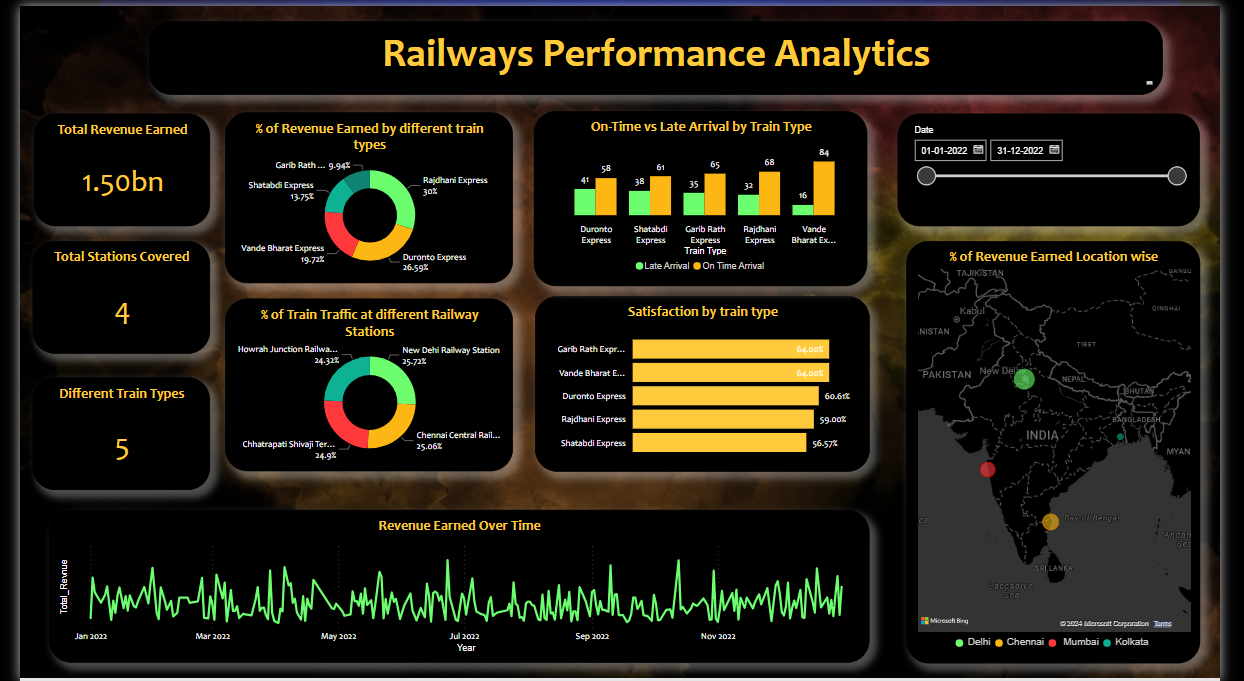

Layout of this report page (visuals, bound fields, positions):
{"tool":"powerbi","page":{"name":"Railways Performance Analytics","canvas":[1600,900],"ordinal":0},"visuals":[{"type":"textbox","title":"Railways Performance Analytics","box":[171.7,20,1351.7,98.3],"z":0},{"type":"lineChart","title":"Revenue Earned Over Time","fields":{"Y":["Measure Table.Total_Revnue"],"Category":["Date Lookup.Date.Variation.Date Hierarchy.Year","Date Lookup.Date.Variation.Date Hierarchy.Quarter","Date Lookup.Date.Variation.Date Hierarchy.Month","Date Lookup.Date.Variation.Date Hierarchy.Day"]},"box":[38,672,1094,204],"z":1000},{"type":"card","title":"Total Revenue Earned ","fields":{"Values":["Measure Table.Total_Revnue"]},"box":[17.5,142.5,235,150],"z":2000},{"type":"card","title":"Total Stations Covered ","fields":{"Values":["Count(station_lookup.Station Name)"]},"box":[16.6,313.6,236.7,150.8],"z":3000},{"type":"card","title":"Different Train Types","fields":{"Values":["Count(Train lookup.Train Type)"]},"box":[16.6,494.5,236.7,150.8],"z":4000},{"type":"donutChart","title":" % of Revenue Earned by different train types ","fields":{"Category":["Train lookup.Train Type"],"Y":["Measure Table.Total_Revnue"]},"box":[274,142,384,228],"z":5000},{"type":"donutChart","title":"% of Train Traffic at different Railway Stations","fields":{"Category":["station_lookup.Station Name"],"Y":["Measure Table.Total_Revnue"]},"box":[274,390,384,230],"z":6000},{"type":"clusteredBarChart","title":"Satisfaction by train type","fields":{"Category":["Train lookup.Train Type"],"Y":["Measure Table.Satisfaction by Train Type"]},"box":[686,386,446,234],"z":8000},{"type":"map","title":"% of Revenue Earned Location wise","fields":{"Size":["Measure Table.% wise Revenue Earned"],"Series":["station_lookup.Station Location"],"Category":["station_lookup.Station Location"]},"box":[1181.7,313.3,391.7,563.3],"z":9000},{"type":"slicer","title":"On-Time vs Late Arrival by Train Type","fields":{"Values":["Date Lookup.Date"]},"box":[1170,143.3,403.3,150],"z":10000},{"type":"clusteredColumnChart","title":"On-Time vs Late Arrival by Train Type","fields":{"Category":["Train lookup.Train Type"],"Y":["Measure Table.Late Arrival","Measure Table.On Time Arrival"]},"box":[685,140,445,233.3],"z":10001}]}

Visuals, with their boxes in screenshot pixels (x1, y1, x2, y2), scaled from the page's 1600x900 canvas onto the 1244x681 screenshot:
"Railways Performance Analytics" textbox: bbox=[133, 15, 1184, 90]
"Revenue Earned Over Time" lineChart: bbox=[30, 508, 880, 663]
"Total Revenue Earned " card: bbox=[14, 108, 196, 221]
"Total Stations Covered " card: bbox=[13, 237, 197, 351]
"Different Train Types" card: bbox=[13, 374, 197, 488]
" % of Revenue Earned by different train types " donutChart: bbox=[213, 107, 512, 280]
"% of Train Traffic at different Railway Stations" donutChart: bbox=[213, 295, 512, 469]
"Satisfaction by train type" clusteredBarChart: bbox=[533, 292, 880, 469]
"% of Revenue Earned Location wise" map: bbox=[919, 237, 1223, 663]
"On-Time vs Late Arrival by Train Type" slicer: bbox=[910, 108, 1223, 222]
"On-Time vs Late Arrival by Train Type" clusteredColumnChart: bbox=[533, 106, 879, 282]
